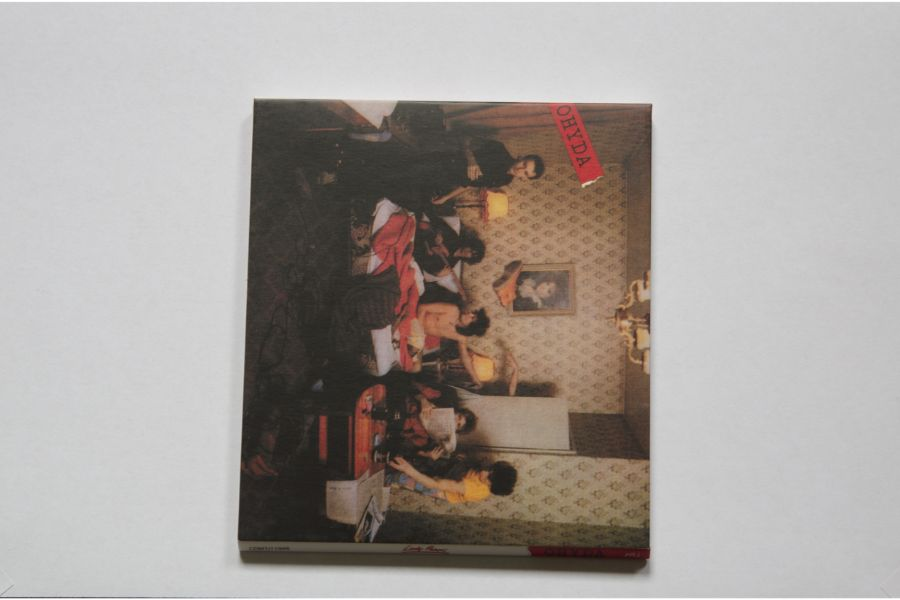album: (238, 97, 653, 561)
